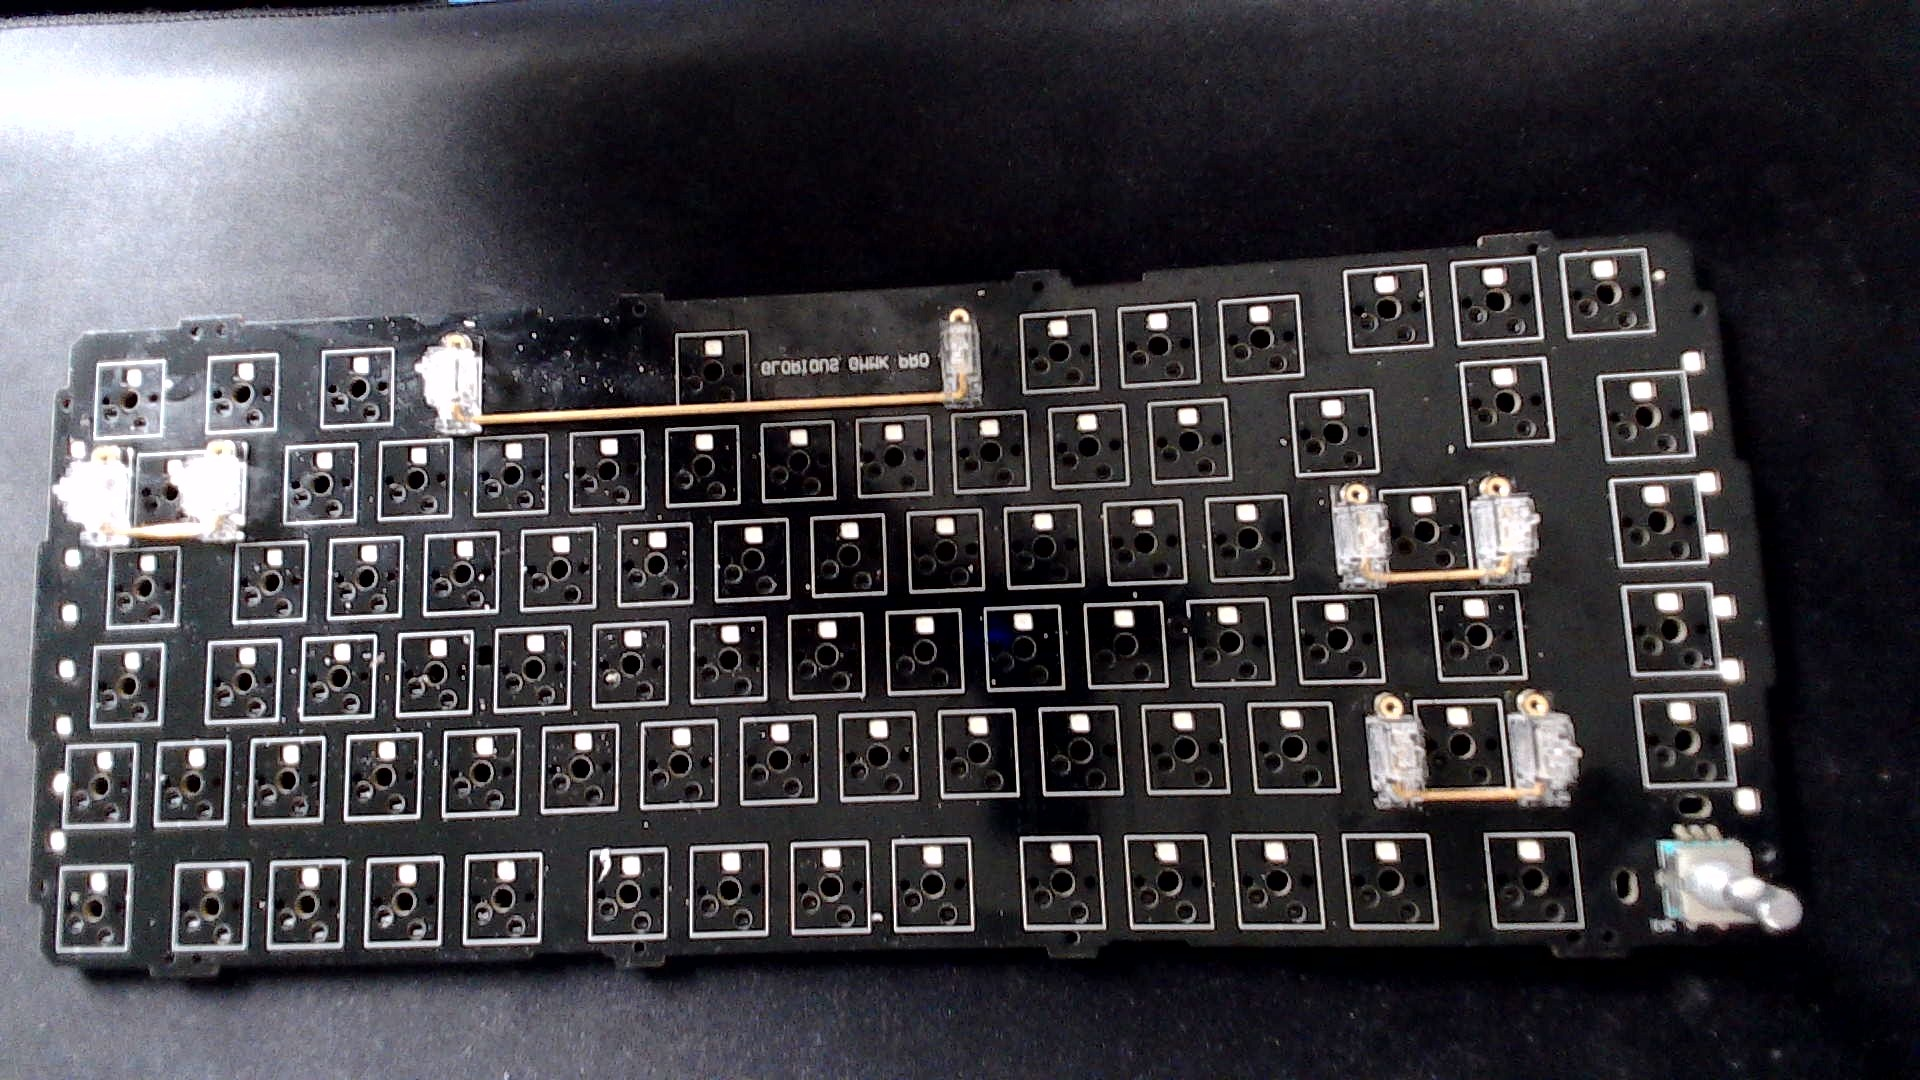pcb: (17, 200, 1834, 1019)
